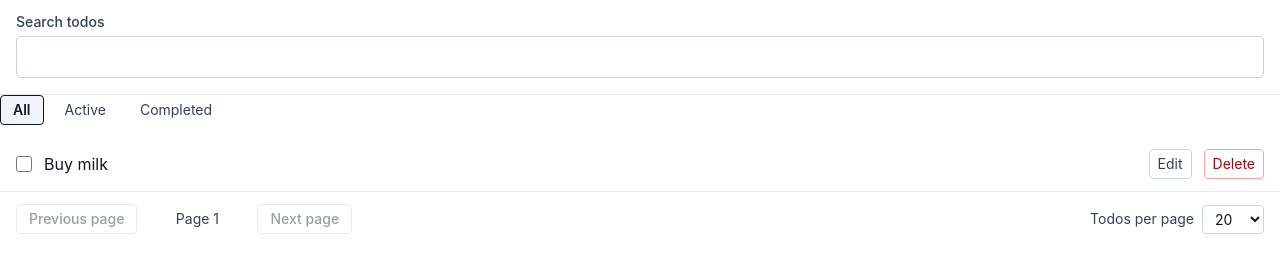
it: TodoFlows editing: failures › shows the validation message and keeps the draft for a 400
The width and height of the screenshot is (1280, 279).
Double-click the text "Buy milk": x=76, y=164 left=44, top=154, right=108, bottom=174
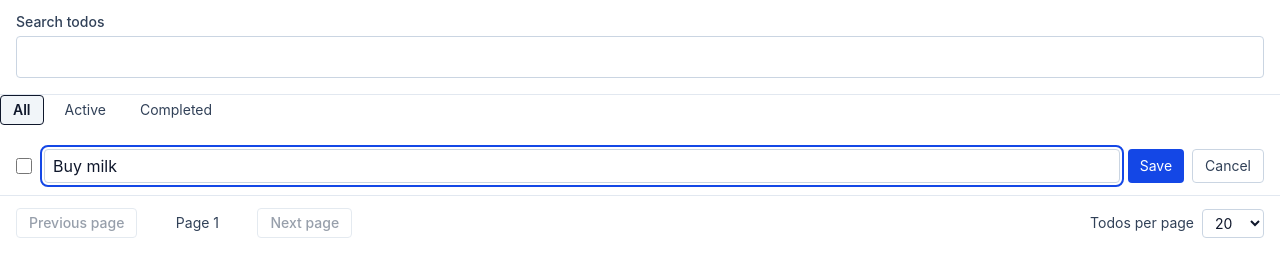
In the field named "Edit title of “Buy milk”": x=582, y=166 left=44, top=149, right=1120, bottom=183, type "!"
Then press Enter
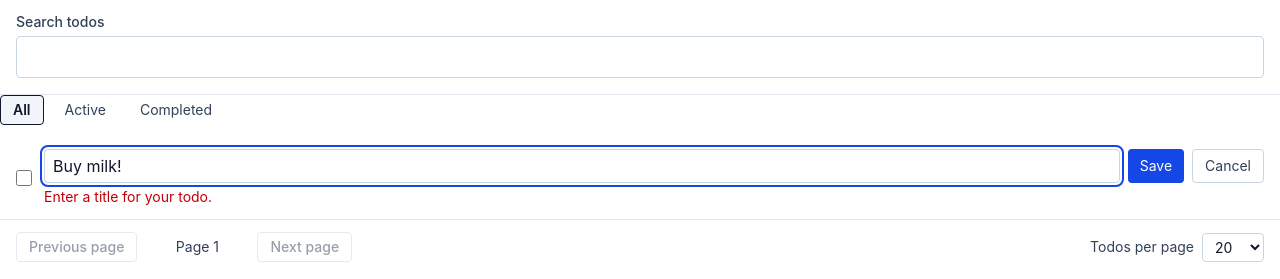
Expected: the message reads "Enter a title for your todo.", left=44, top=188, right=212, bottom=205
